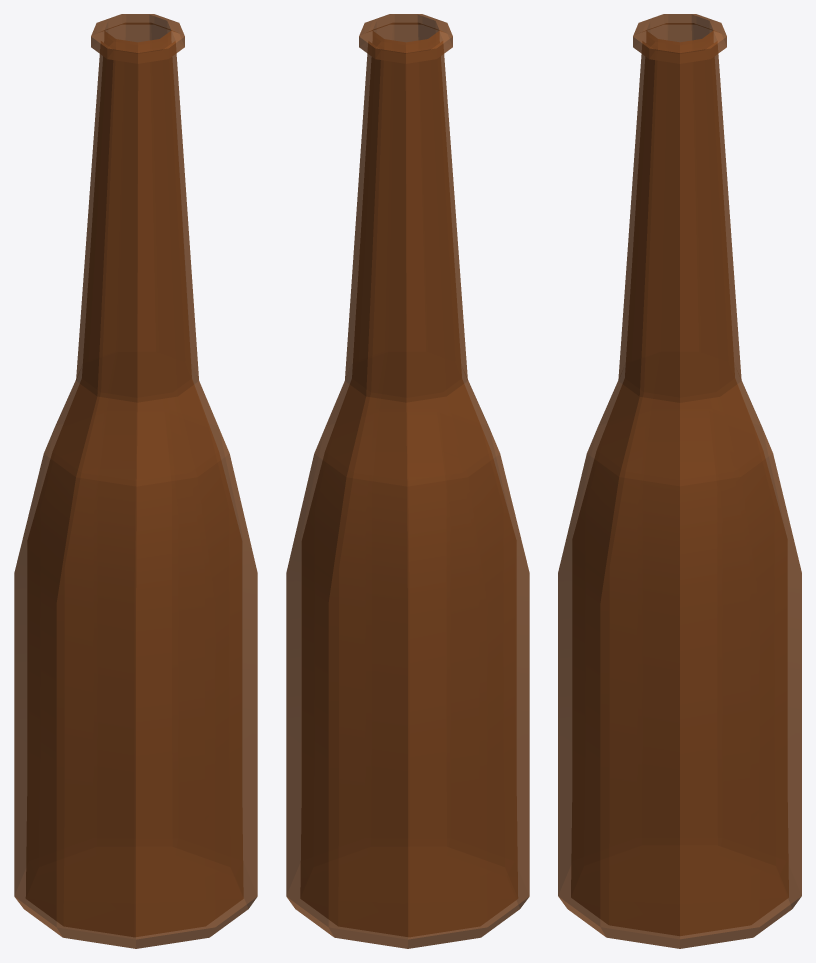
The model's file is Bottle.fbx.
3 views of the same model, side by side, from view 1: azimuth 30°, elevation 25°; view 2: azimuth 150°, elevation 25°; view 3: azimuth 270°, elevation 25° (orthographic).
Visible parts, largest first — view 1: pPipe1; view 2: pPipe1; view 3: pPipe1.
Boxes of the visible parts, x1,y1,x2,y2 form: pPipe1: [14, 14, 257, 948]; pPipe1: [286, 14, 529, 948]; pPipe1: [558, 14, 801, 948].
Bounding box in the file's own units: 4.18 × 16.84 × 4.24.
